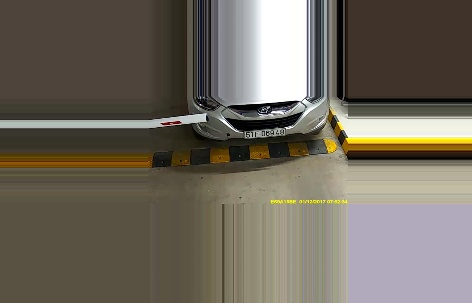plate: (242, 127, 288, 139)
